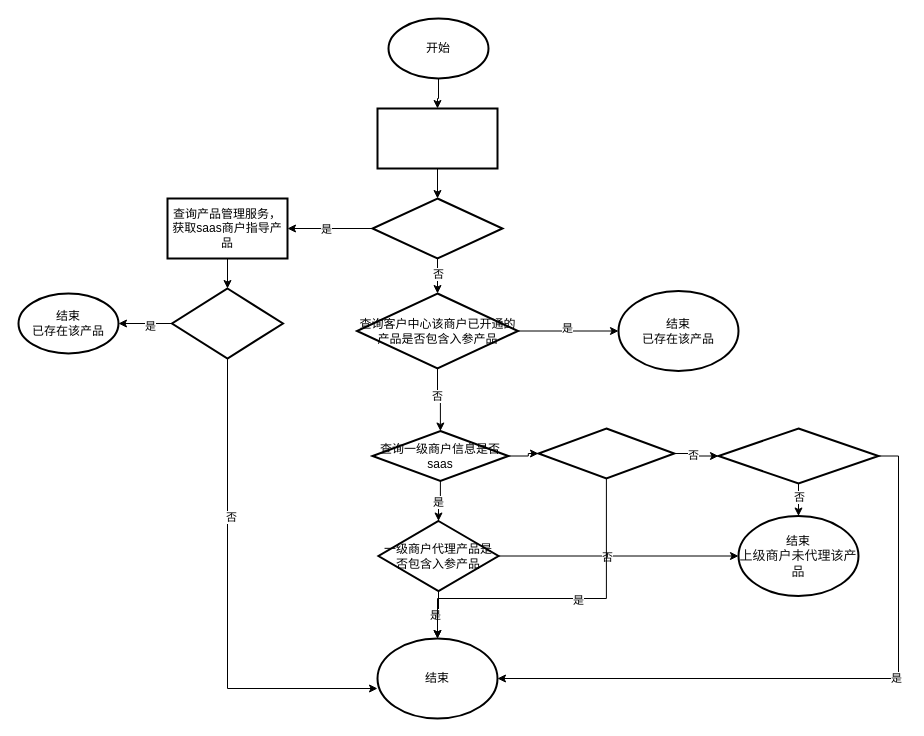
Image size: 924x736. Some labels were removed from this diagram. Here are the shapes that lost their labels. From the top down, the box of each, then its label:
(376, 107, 498, 169): 根据商编查询商户信息
(371, 197, 503, 259): 商户角色是否saas
(170, 287, 284, 359): 指导产品是否包含入参产品
(537, 427, 675, 479): 是否标准商户/平台商
(717, 427, 879, 484): 一级商户产品是否已开通入参产品
